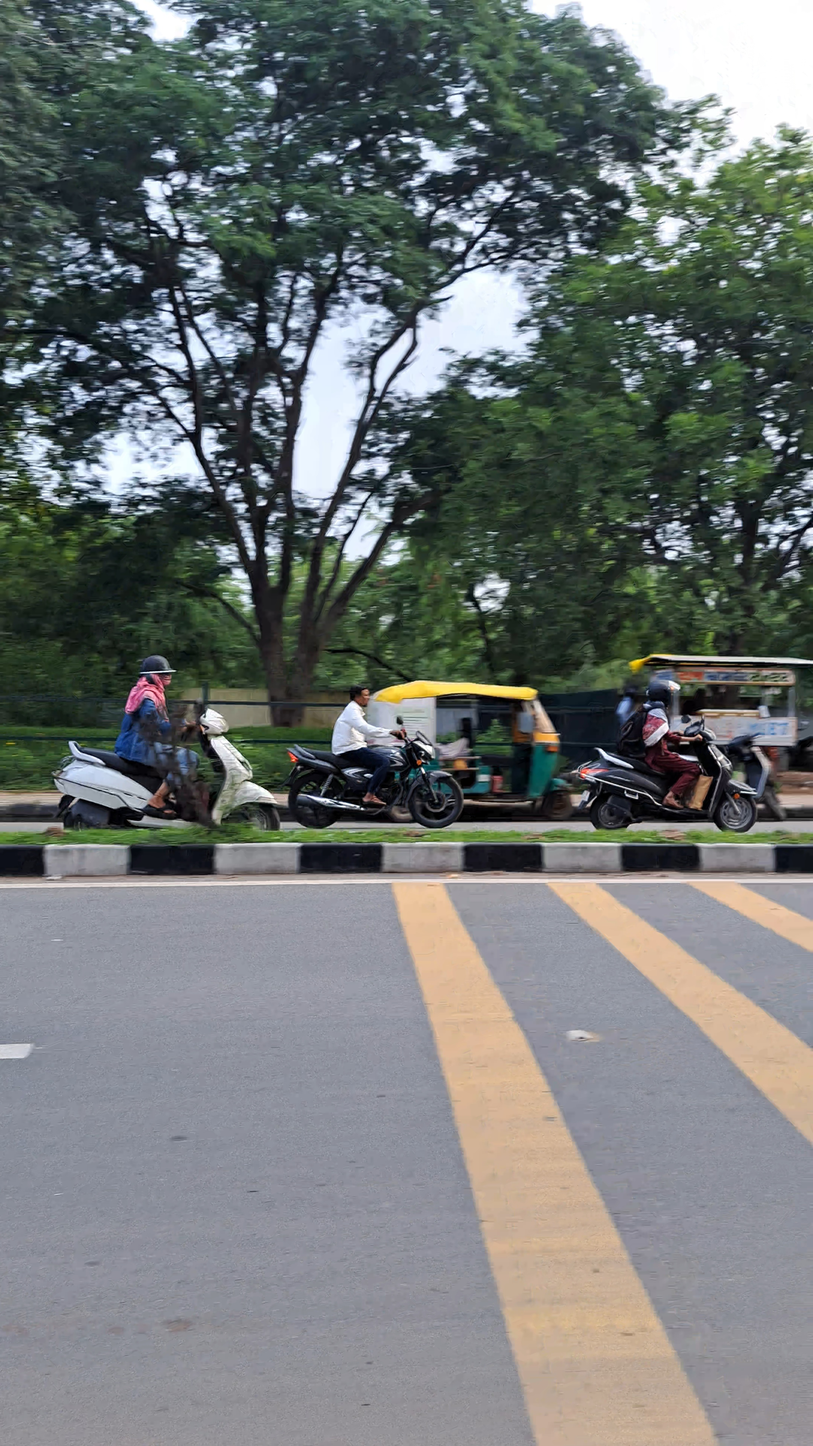BikeWithRider: (38, 647, 292, 844), (565, 670, 769, 842), (277, 676, 475, 835)
Helmet: (131, 650, 181, 688), (639, 671, 686, 711)
NoHelmet: (347, 681, 373, 709)
